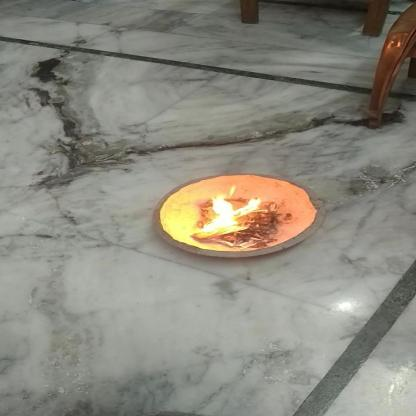fire: (203, 192, 268, 238)
